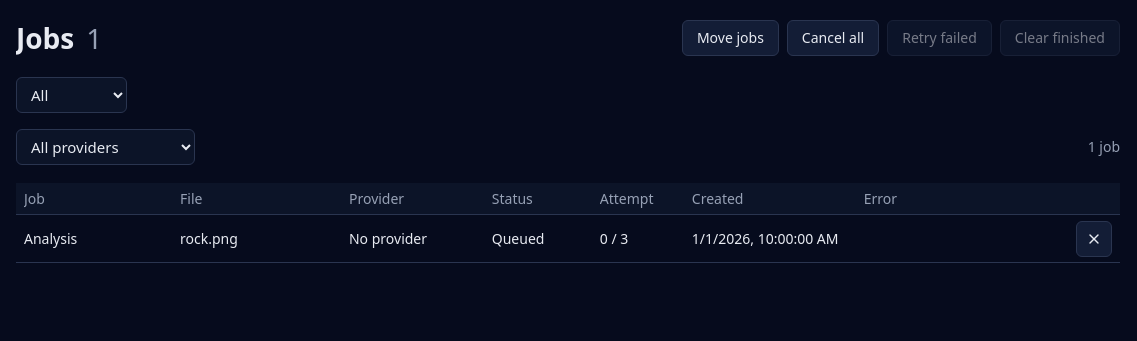
a rejected action still polls the summary and reloads the list
expect the text "rock.png" is shown: met, box [180,228,238,248]
Step 1. Click the button "Cancel all" → click(833, 38), box [787,20,879,56]
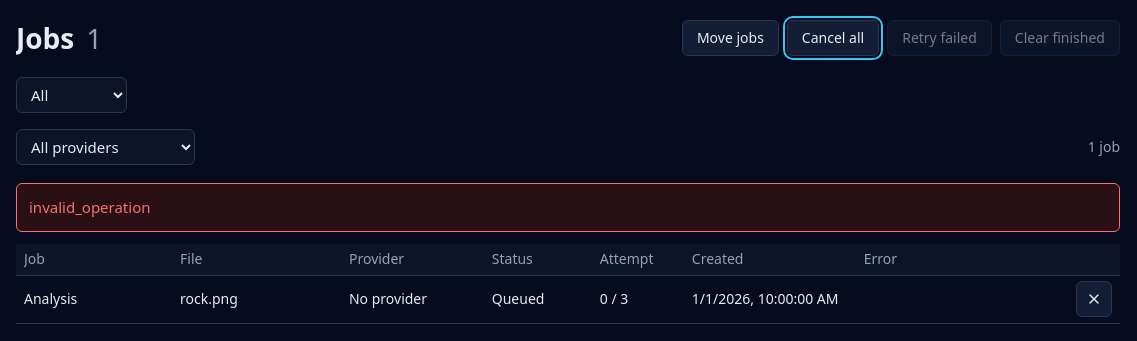
expect the message "invalid_operation" is shown: met, box [16,183,1120,232]
